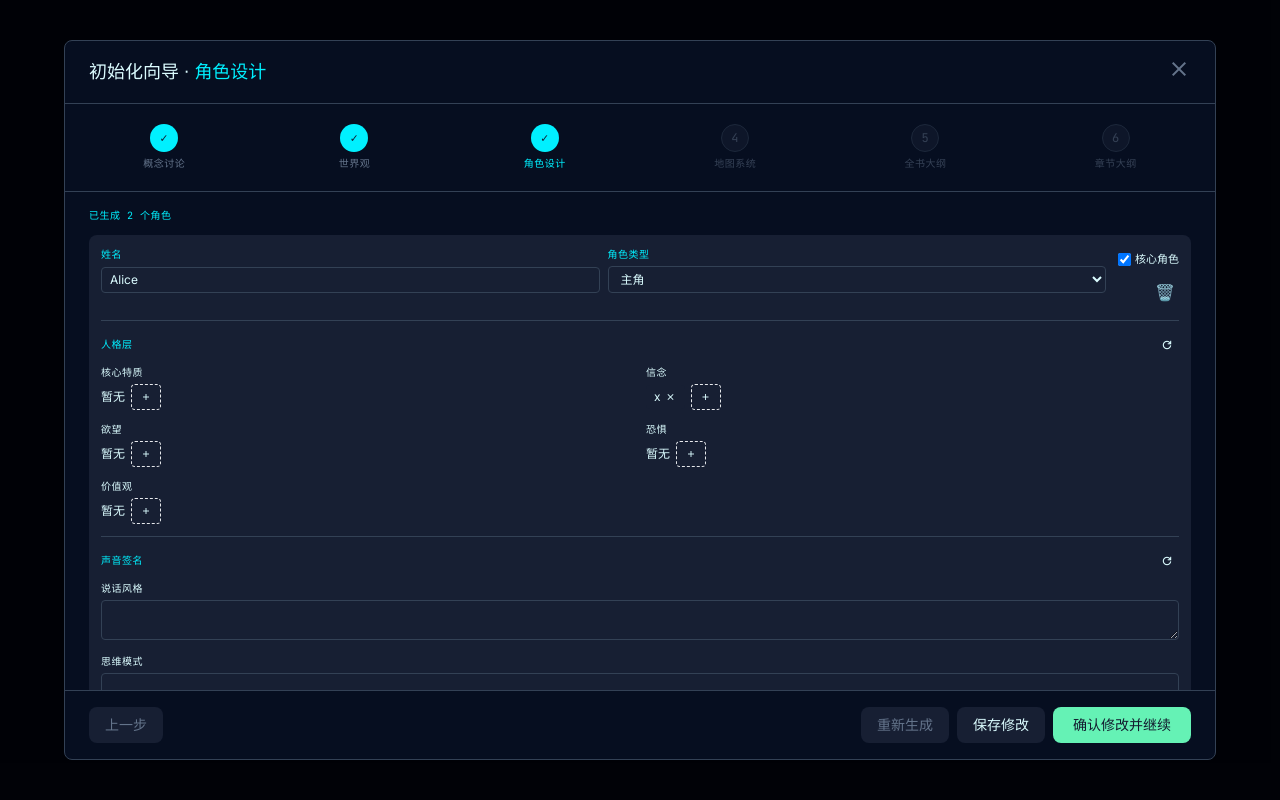
Test: CharacterStep edit + delete › deleting alice (with inbound relation from nobody) reports 0 cascade count
Click the button with test id "character-delete-char_alice".
click(1165, 292)  # box [1151,276,1179,308]
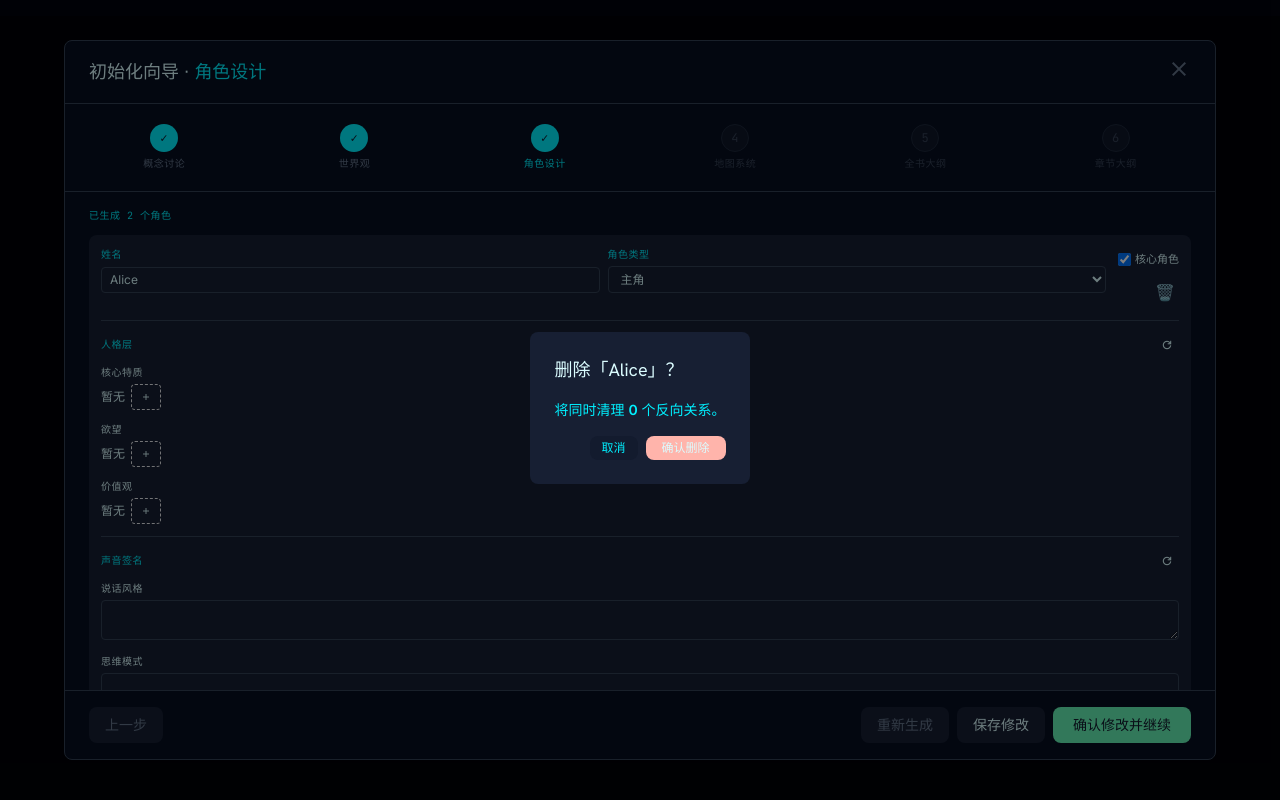
Check: the element with test id "delete-confirm-modal" reads "删除「Alice」？ 将同时清理 0 个反向关系。 取消 确认删除"
